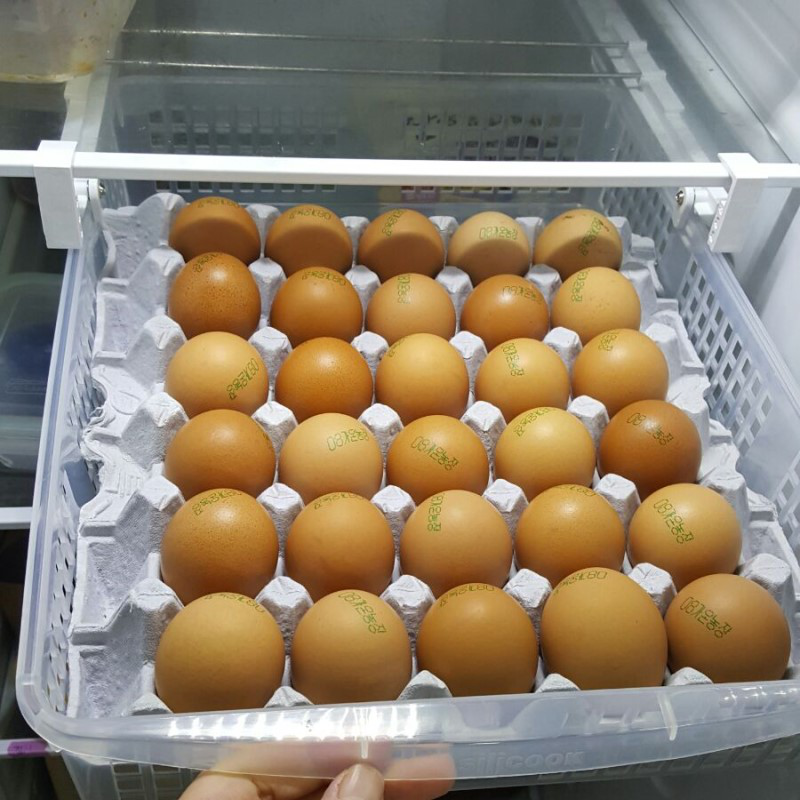egg: (153, 196, 794, 716)
